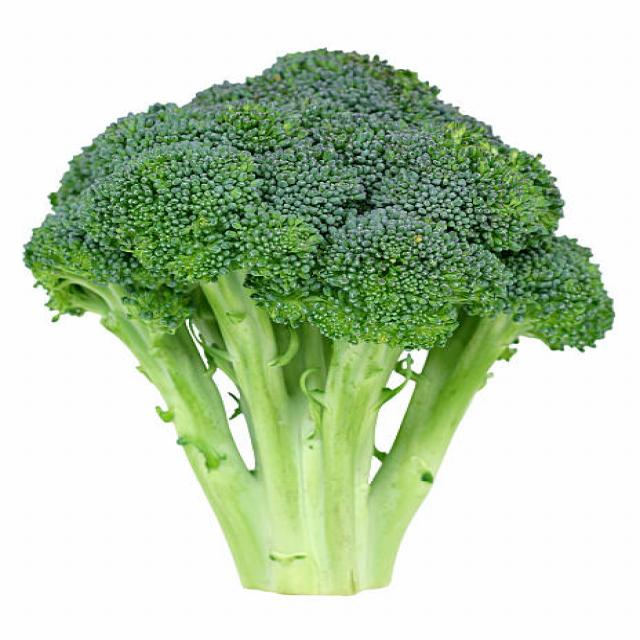Broccoli head: (26, 47, 640, 610)
